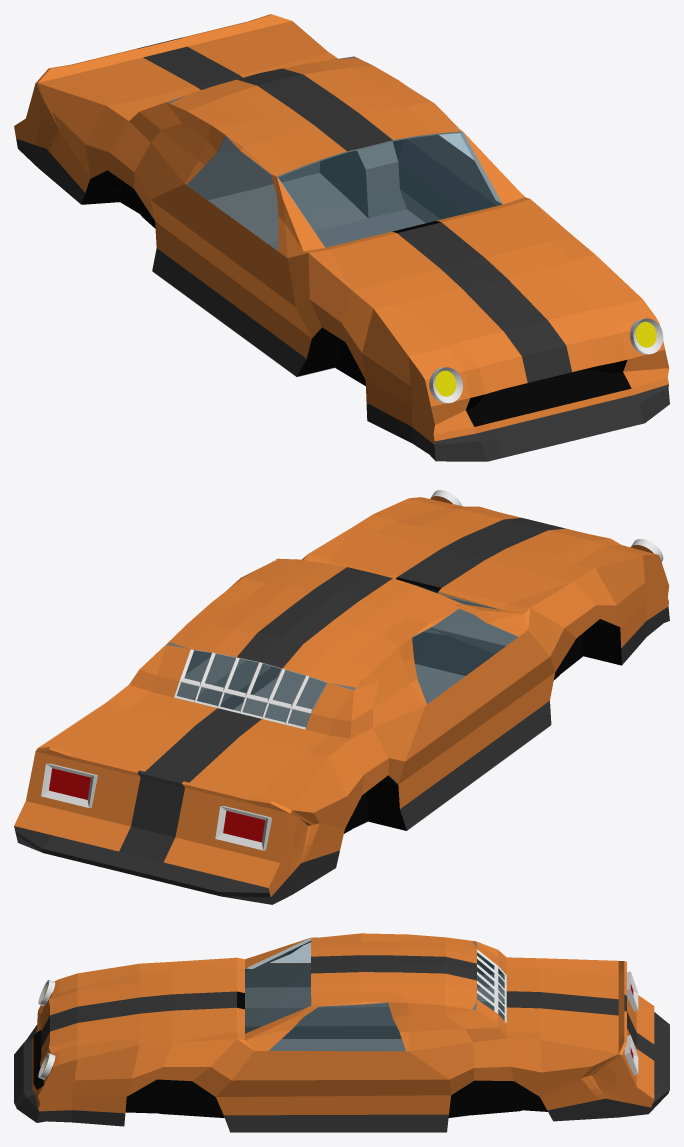
File: Car124.fbx
The picture shows the model from 3 angles, top to bottom: view 1: azimuth 30°, elevation 25°; view 2: azimuth 150°, elevation 25°; view 3: azimuth 270°, elevation 25°; orthographic projection. The views are drawn at different scales.
Visible parts, largest first — view 1: Cube; view 2: Cube; view 3: Cube.
Boxes of the visible parts, x1,y1,x2,y2 form: Cube: [14, 14, 669, 461]; Cube: [14, 490, 669, 904]; Cube: [14, 933, 669, 1132].
Size of the model in its own units: 181 by 109 by 524.
